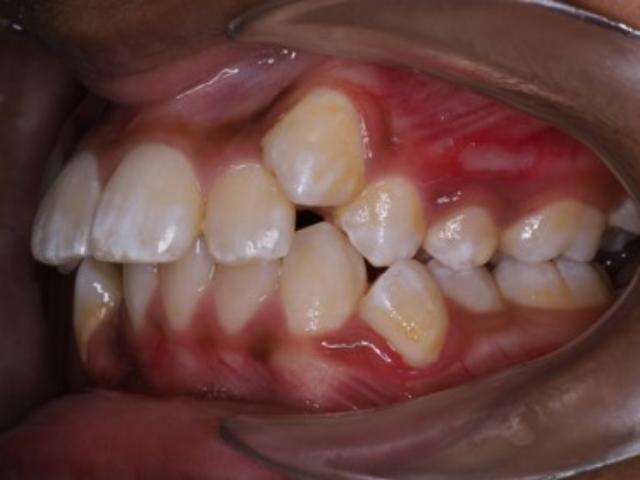canine class II 3/4: (260, 77, 444, 376)
molar class II 1/2: (495, 186, 617, 326)
